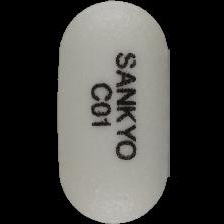65597-701: (0, 0, 224, 224)
